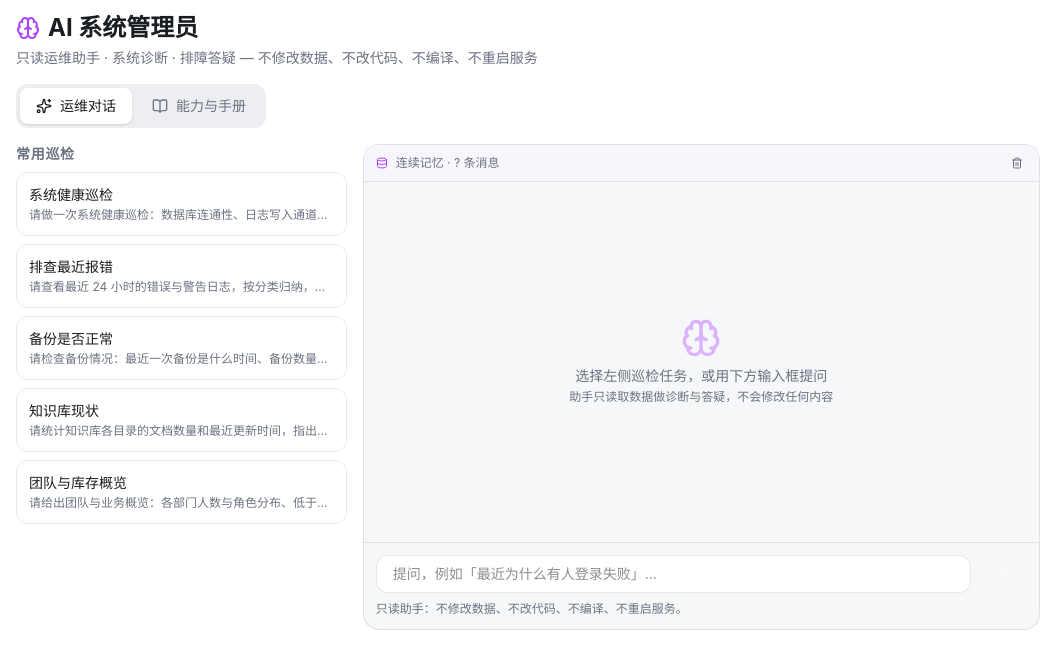
Test: AI 系统管理员：只读运维助手 › 运维对话的预设任务驱动 /analyze/stream，并把任务原文发出去
What coordinates should you click on to do the following:
click the text "排查最近报错"
I would click on:
 (71, 266)
Its box is x1=29 y1=258 x2=113 y2=275.
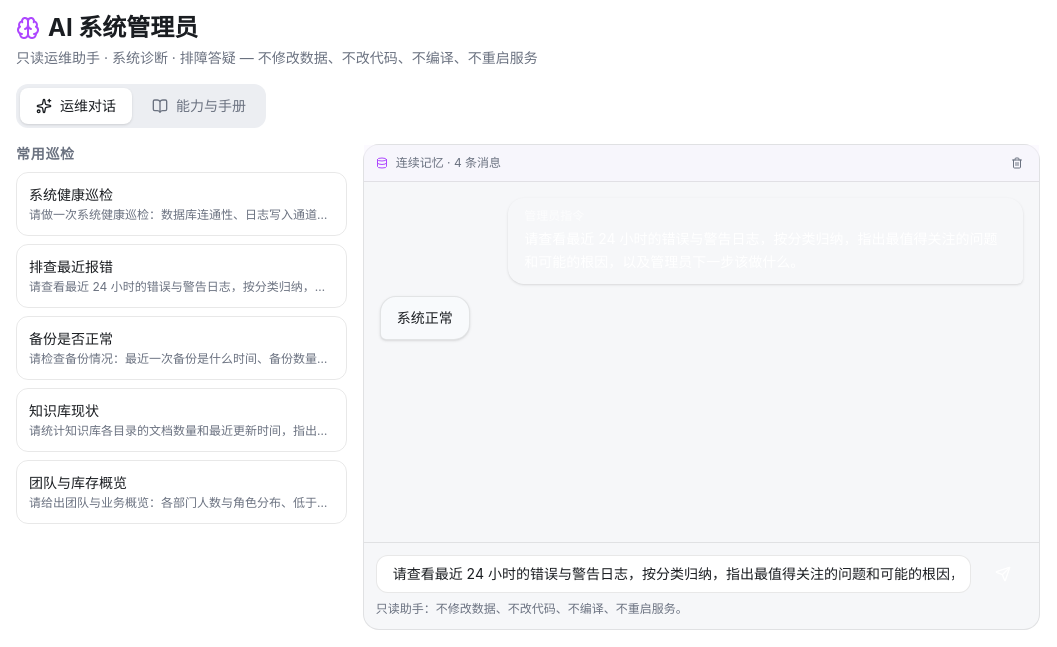
expect the text "系统正常" is shown: met, box x1=397 y1=306 x2=453 y2=329
